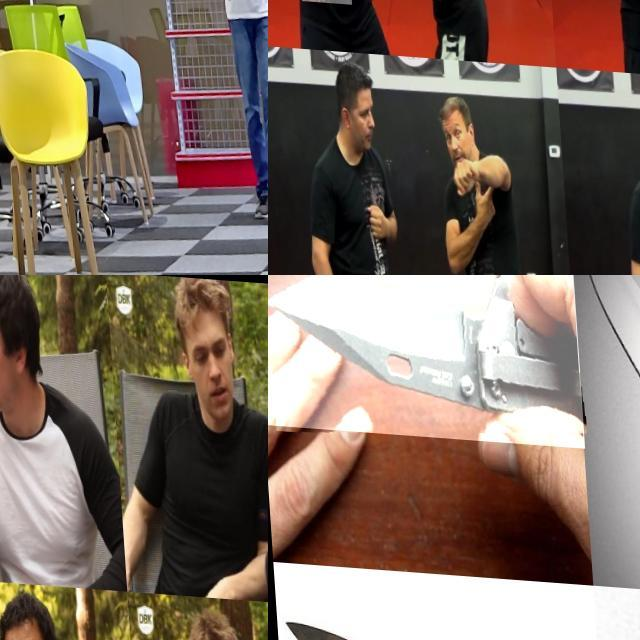-: (268, 275, 582, 443), (581, 275, 640, 563), (0, 371, 22, 509), (296, 0, 348, 14)
gun-knife-thesis - v11 Yolov5 augmented: (230, 0, 258, 26)
